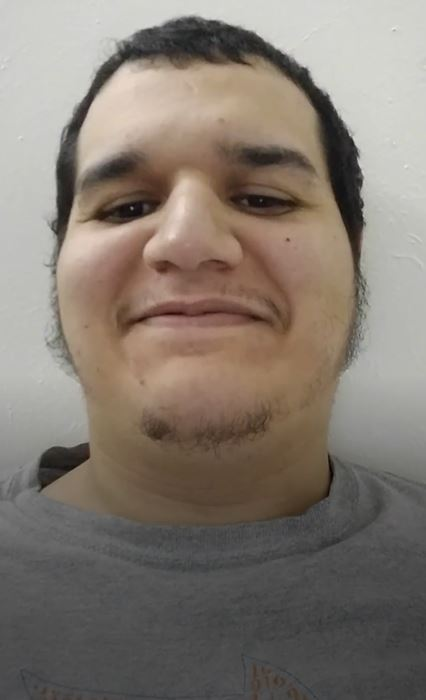Not Sleeping: (74, 182, 325, 240)
